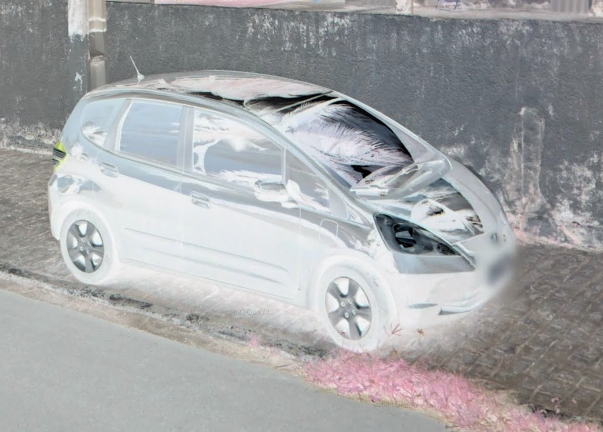car: (44, 53, 520, 357)
